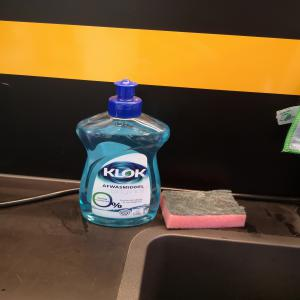Plastic-bottle: (74, 79, 173, 230)
